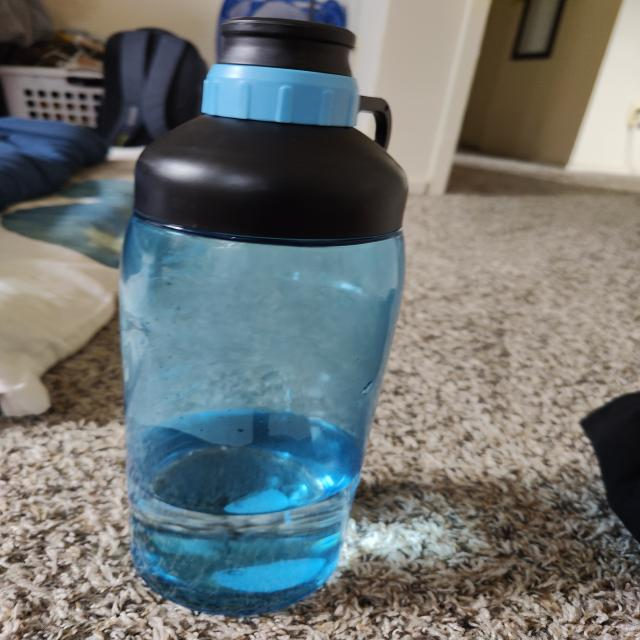bottle: (128, 15, 404, 595)
